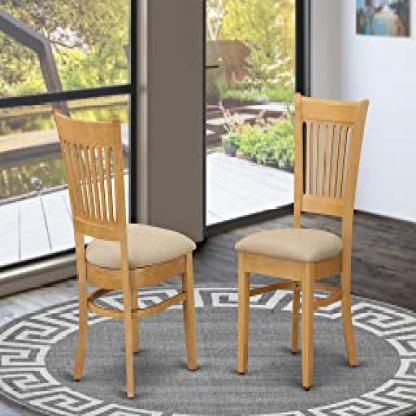chair: (229, 84, 381, 388), (55, 108, 204, 402)
door: (202, 0, 308, 221)
